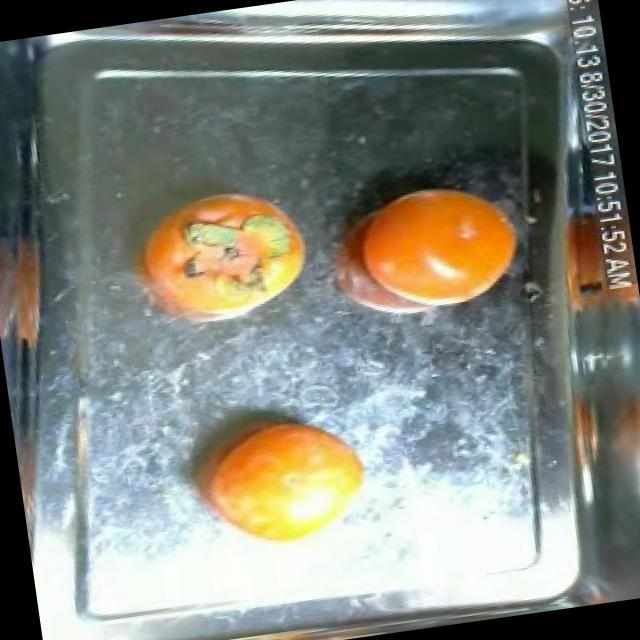Fruit: (171, 394, 394, 570), (326, 158, 544, 334), (130, 190, 330, 342)
